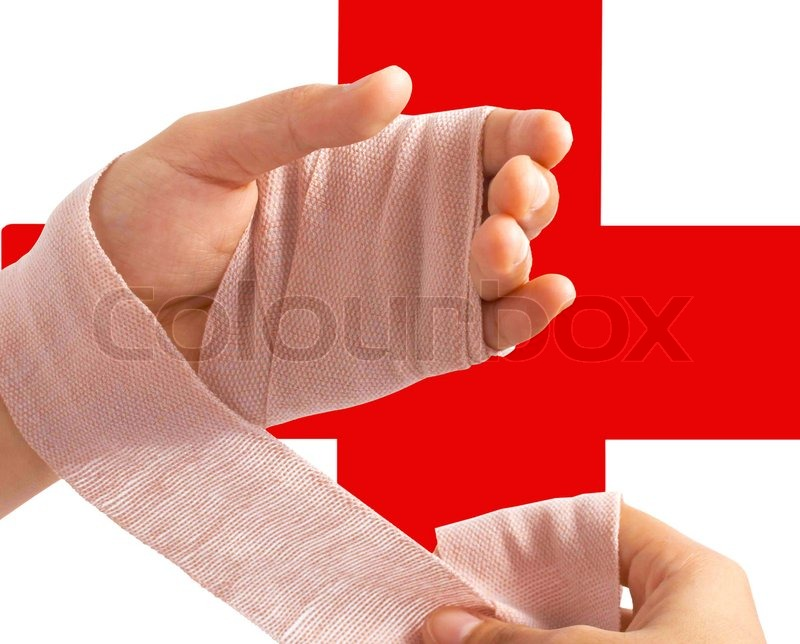injured: (33, 134, 577, 444)
